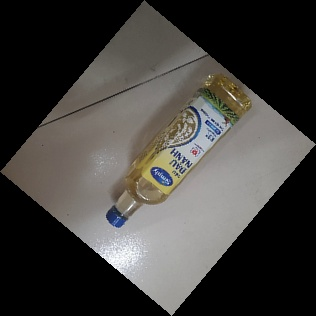Simply: (103, 72, 253, 229)
